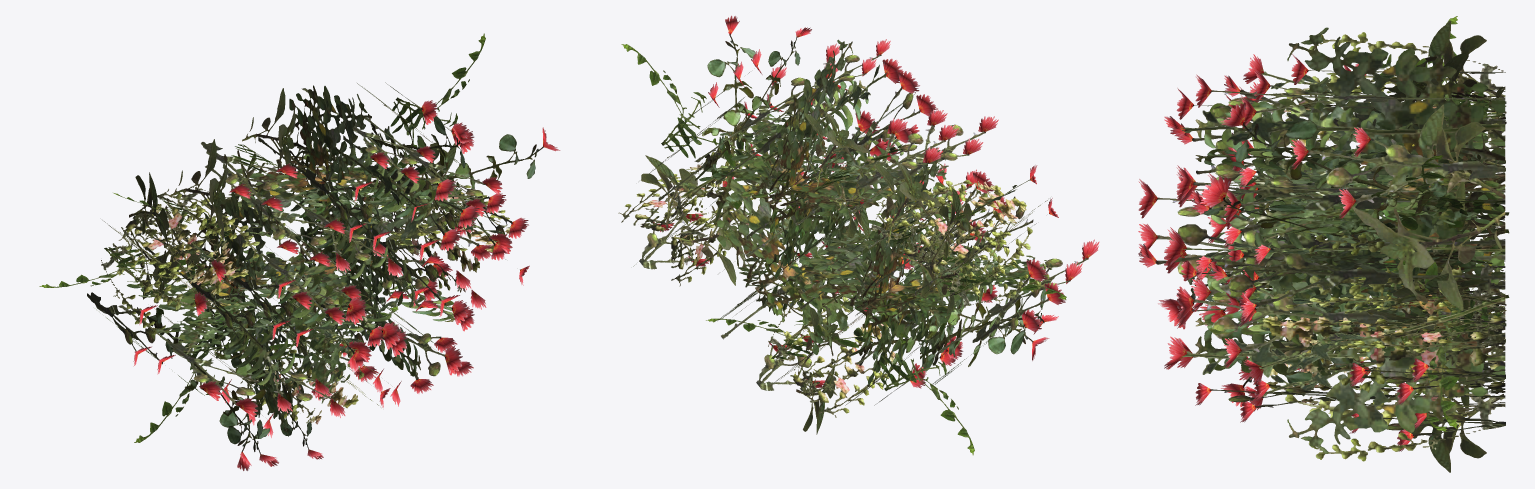
Rendered from foliage_gardenflowers_red_group_LOD1.obj.
3 views of the same model, side by side, from view 1: azimuth 30°, elevation 25°; view 2: azimuth 150°, elevation 25°; view 3: azimuth 270°, elevation 25° (orthographic). The views are drawn at different scales.
Visible parts, largest first — view 1: mtl_gardenflowers; view 2: mtl_gardenflowers; view 3: mtl_gardenflowers.
Boxes of the visible parts, <box> form: mtl_gardenflowers: <box>39,33,560,470</box>; mtl_gardenflowers: <box>618,15,1099,455</box>; mtl_gardenflowers: <box>1138,16,1509,472</box>.
Size of the model in its own units: 117 by 89.18 by 66.35.
